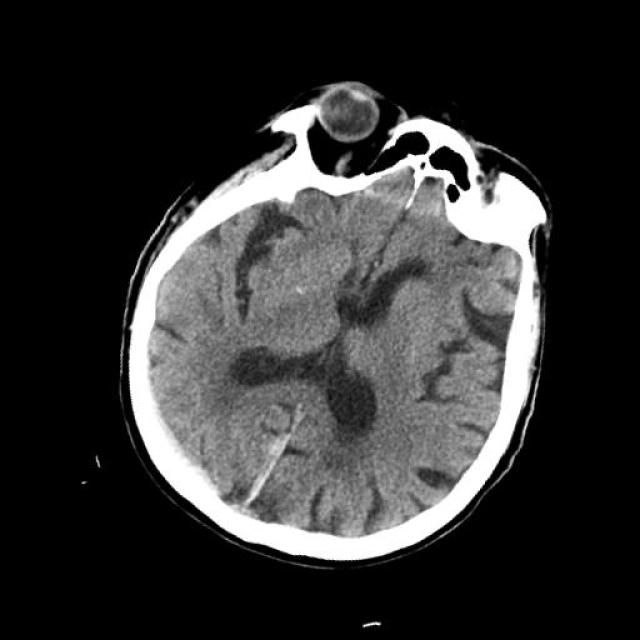Subdural: (223, 400, 322, 534)
